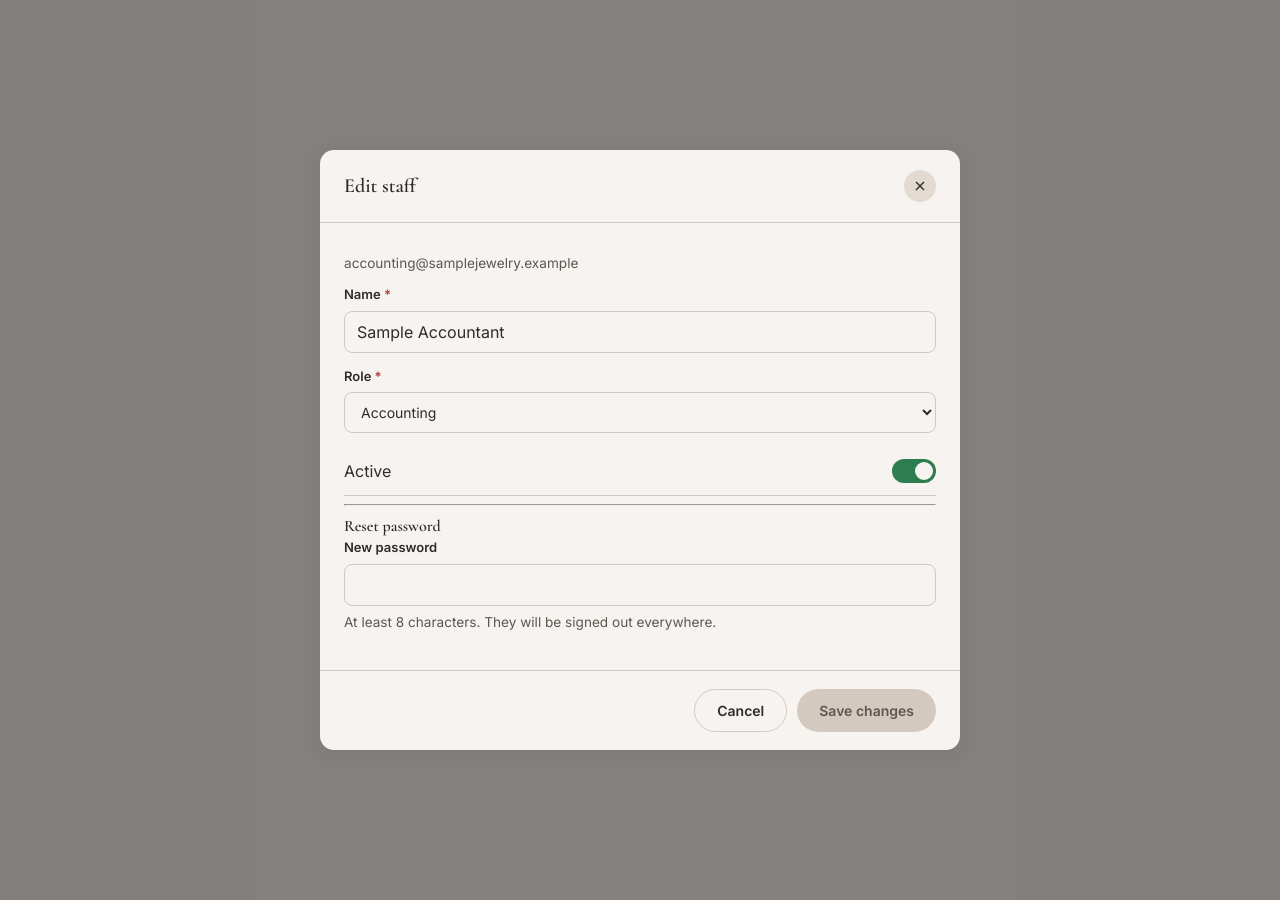
it: EditStaffModal › shows API errors inline
The image size is (1280, 900).
What coordinates should you click on to do the following:
click the switch named "Active"
I would click on:
 (914, 471)
Its box is [892, 459, 936, 483].
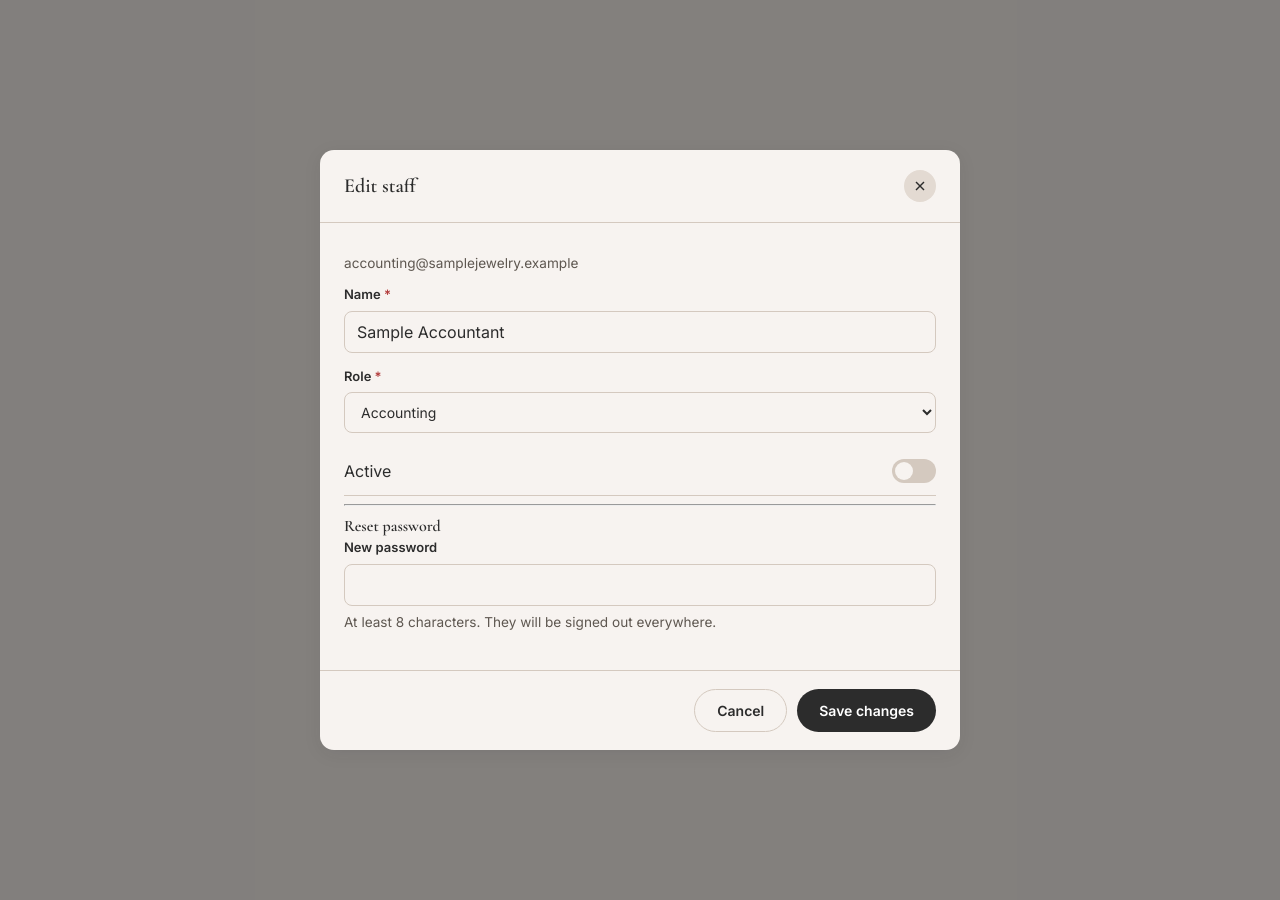
What coordinates should you click on to do the following:
click the button "Save changes"
I would click on:
 (867, 711)
Its box is [797, 689, 936, 732].
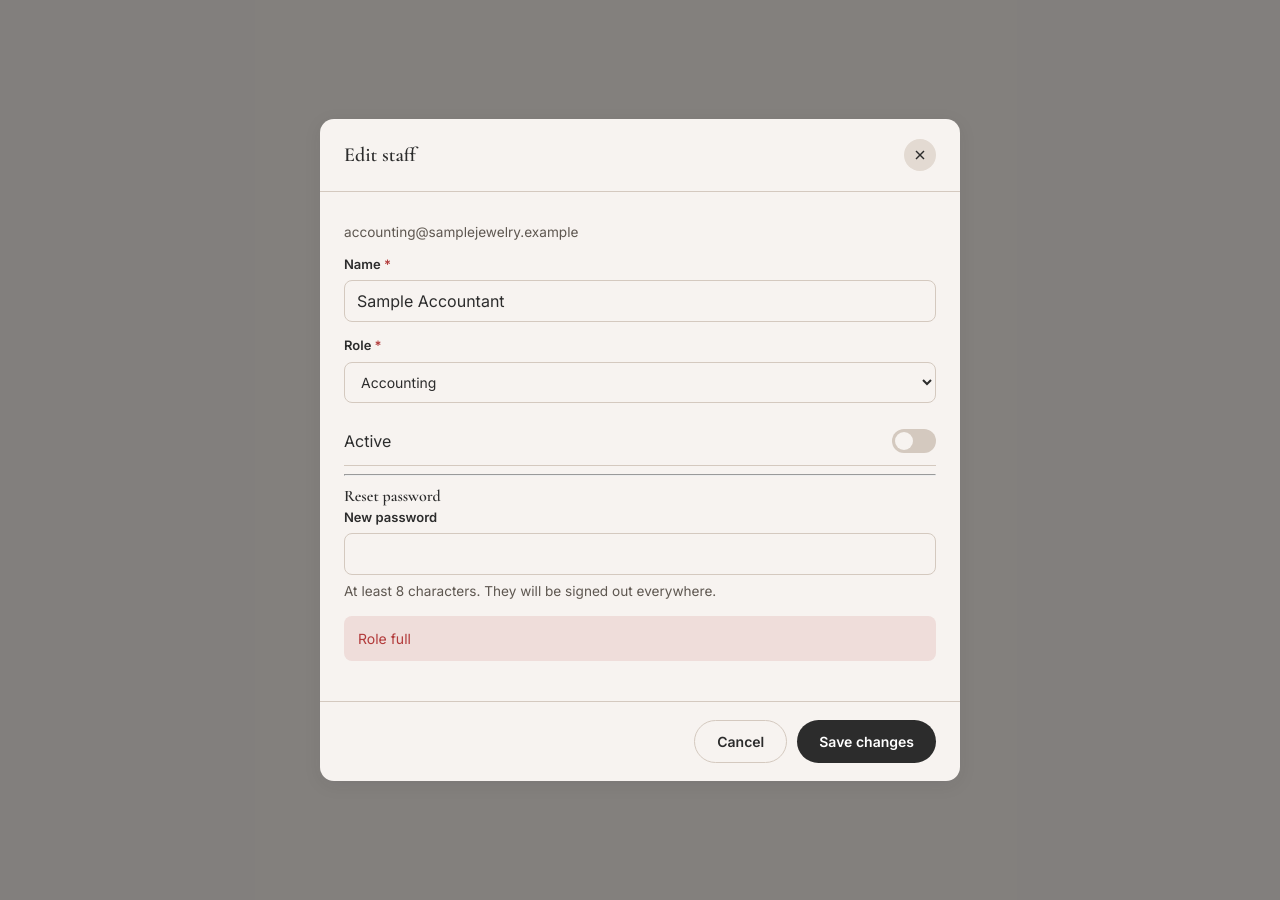
Expected: the message reads "Role full", [358, 630, 411, 647]
